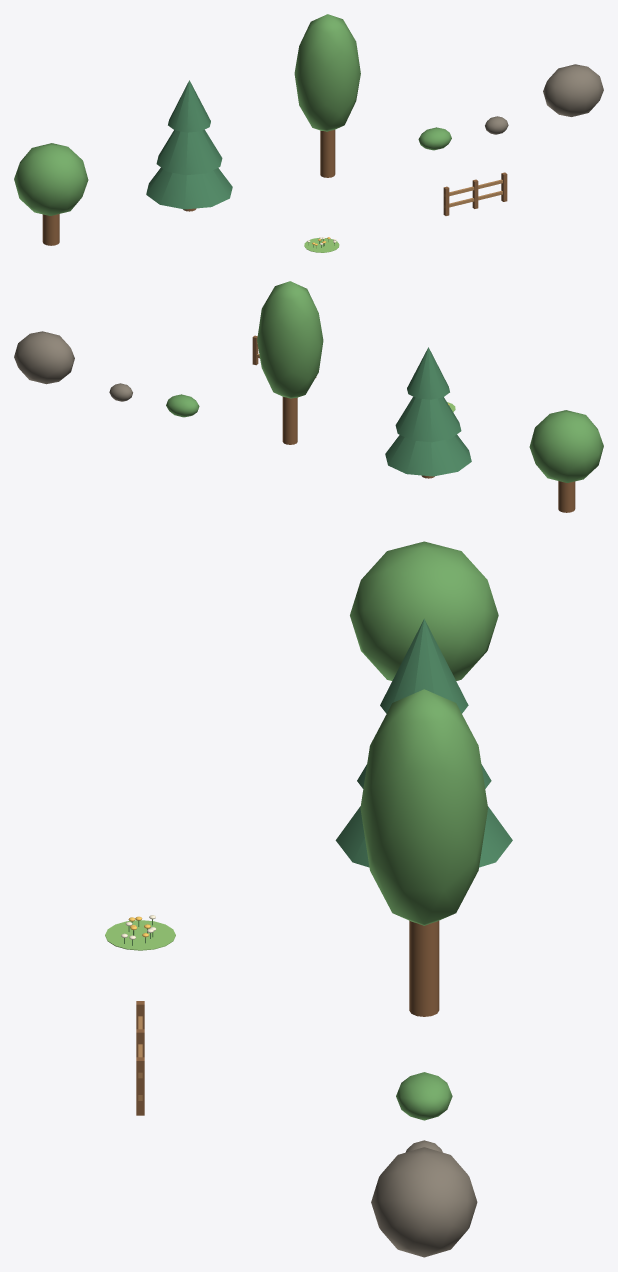
The model's file is scenery-kit.glb.
3 views of the same model, one above another, from view 1: azimuth 30°, elevation 25°; view 2: azimuth 150°, elevation 25°; view 3: azimuth 270°, elevation 25° (orthographic). The views are drawn at different scales.
Parts seen in each view (by area): view 1: PineTier (×3), OvalFoliage, RoundFoliage, Rock (×2), Trunk (×2), Foliage, GroundPatch; view 2: PineTier (×3), OvalFoliage, RoundFoliage, Rock (×2), Trunk (×2), Foliage; view 3: OvalFoliage, RoundFoliage, Rock, PineTier (×2), Trunk, Foliage, GroundPatch.
Part boxes in pixels (box(x1,y1,x2,y2)): PineTier (×3): box(146, 80, 232, 209); OvalFoliage: box(294, 14, 360, 131); RoundFoliage: box(14, 143, 88, 215); Rock (×2): box(485, 64, 603, 134); Trunk (×2): box(42, 130, 335, 245); Foliage: box(418, 127, 451, 150); GroundPatch: box(304, 238, 339, 252); PineTier (×3): box(385, 347, 471, 476); OvalFoliage: box(257, 281, 323, 398); RoundFoliage: box(529, 410, 603, 482); Rock (×2): box(14, 331, 132, 401); Trunk (×2): box(282, 397, 575, 512); Foliage: box(166, 394, 199, 417); OvalFoliage: box(360, 689, 487, 925); RoundFoliage: box(350, 541, 498, 680); Rock: box(371, 1147, 477, 1257); PineTier (×2): box(335, 619, 512, 867); Trunk: box(409, 920, 439, 1016); Foliage: box(396, 1072, 452, 1120); GroundPatch: box(105, 920, 175, 950).
Size of the model in its own units: 37.9 by 10 by 11.5.
